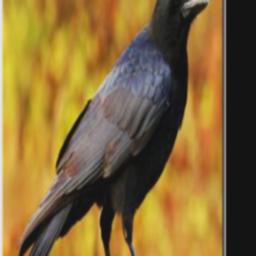Crow: (11, 0, 209, 256)
